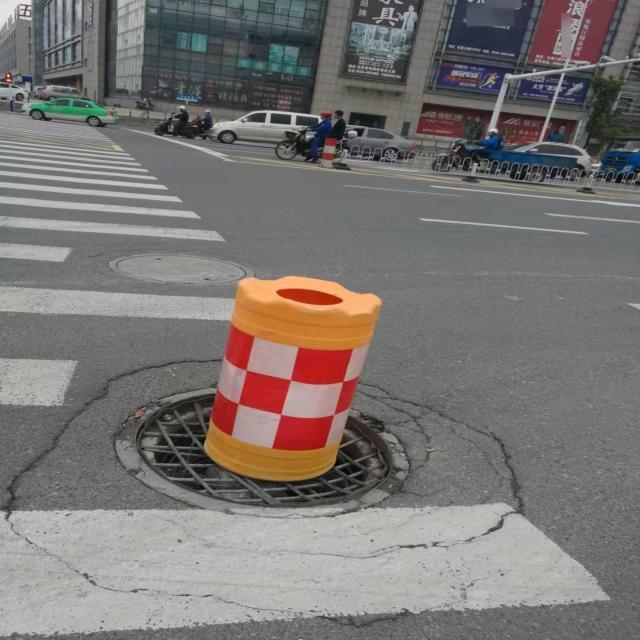Faulty: (114, 383, 411, 519)
